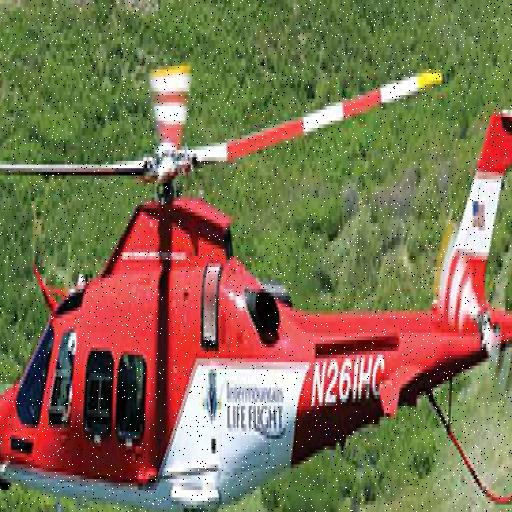helicopter: (1, 56, 512, 506)
